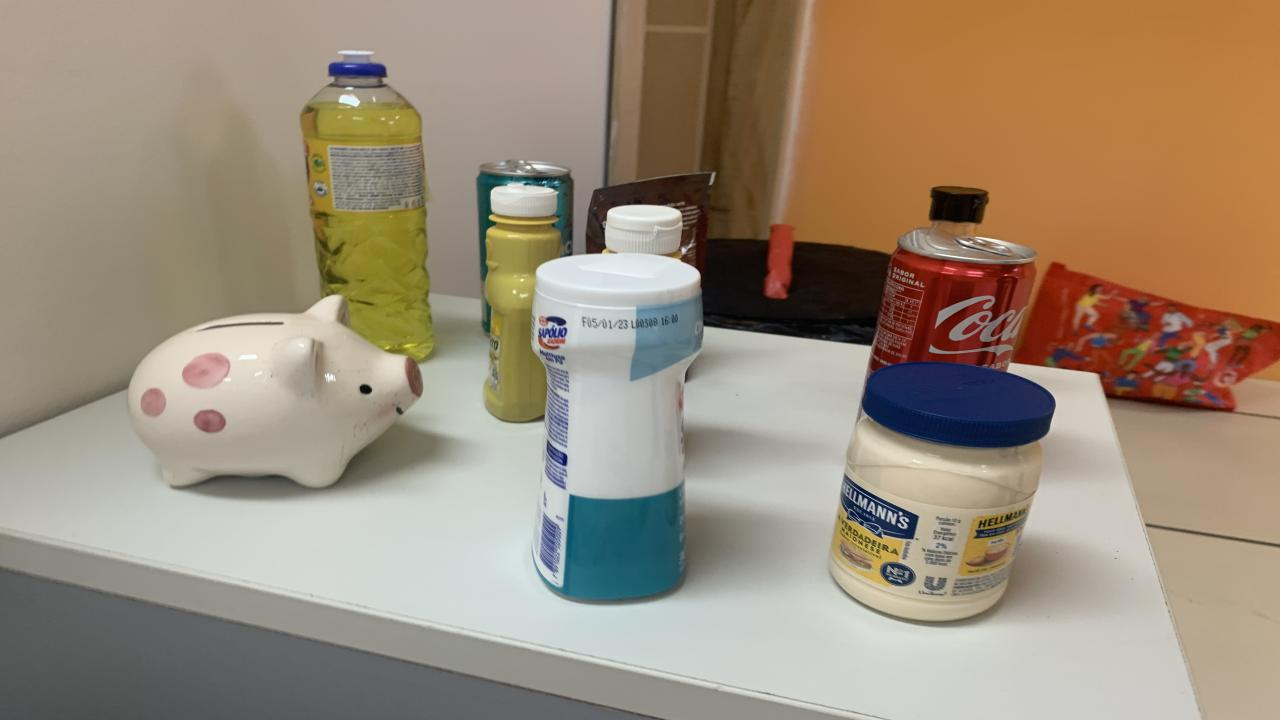Cleaner-Cleanup_Items: (530, 253, 702, 600)
Coffee-Pantry_Items: (585, 172, 715, 270)
Coke-Drinks: (868, 229, 1035, 371)
Detergent-Cleanup_Items: (300, 51, 432, 360)
English_Sauce-Pantry_Items: (928, 186, 990, 236)
Mayonnaise-Pantry_Items: (830, 362, 1055, 621)
Mustard-Pantry_Items: (485, 184, 562, 422), (602, 204, 682, 259)
Pig_Safe-Miscellaneous: (128, 294, 422, 488)
Tea-Drinks: (478, 159, 572, 281), (482, 292, 490, 332)
